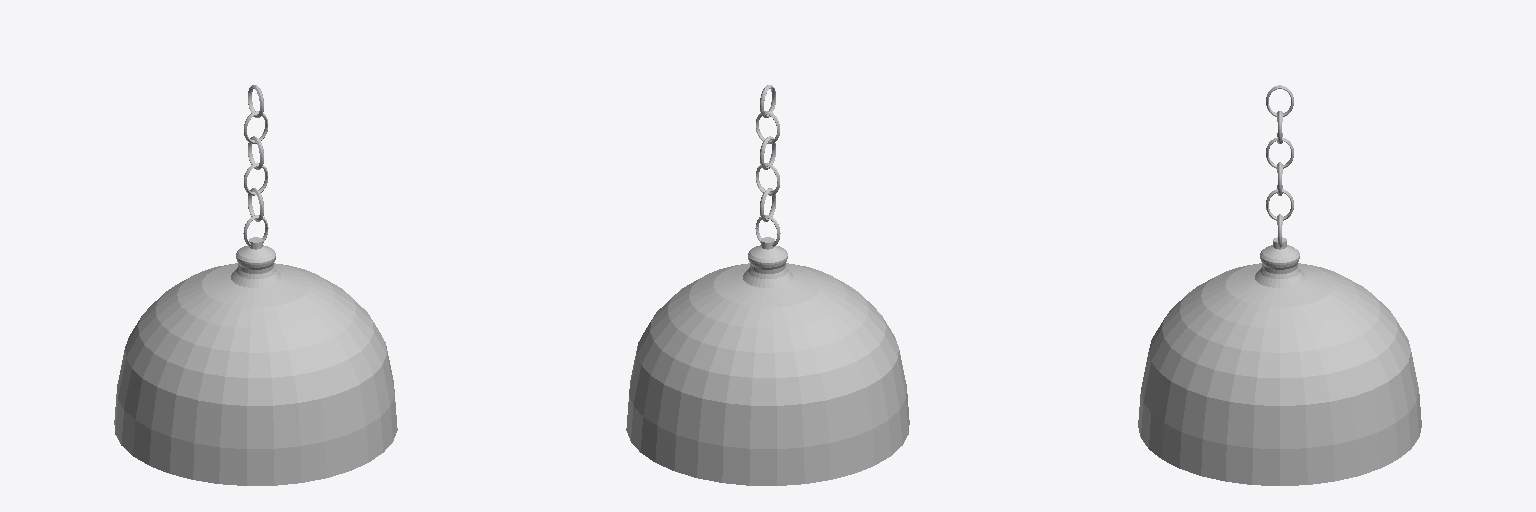
The model's file is ceiling lamp.obj.
3 views of the same model, side by side, from view 1: azimuth 30°, elevation 25°; view 2: azimuth 150°, elevation 25°; view 3: azimuth 270°, elevation 25° (orthographic).
Parts seen in each view (by area): view 1: Ceiling_Light_0, Ceiling_Light_1; view 2: Ceiling_Light_0, Ceiling_Light_1; view 3: Ceiling_Light_0, Ceiling_Light_1.
Boxes of the visible parts, x1=… form: Ceiling_Light_0: x1=117, y1=263, x2=394, y2=448; Ceiling_Light_1: x1=114, y1=85, x2=397, y2=485; Ceiling_Light_0: x1=629, y1=263, x2=906, y2=448; Ceiling_Light_1: x1=626, y1=85, x2=909, y2=485; Ceiling_Light_0: x1=1141, y1=263, x2=1418, y2=448; Ceiling_Light_1: x1=1138, y1=85, x2=1421, y2=485.
Bounding box in the file's own units: 6.94 × 9.2 × 6.94.